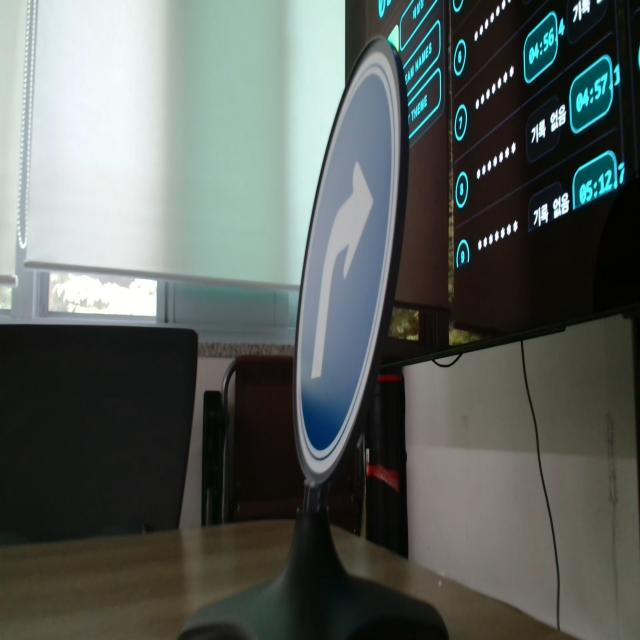right_dierection: (276, 26, 412, 496)
